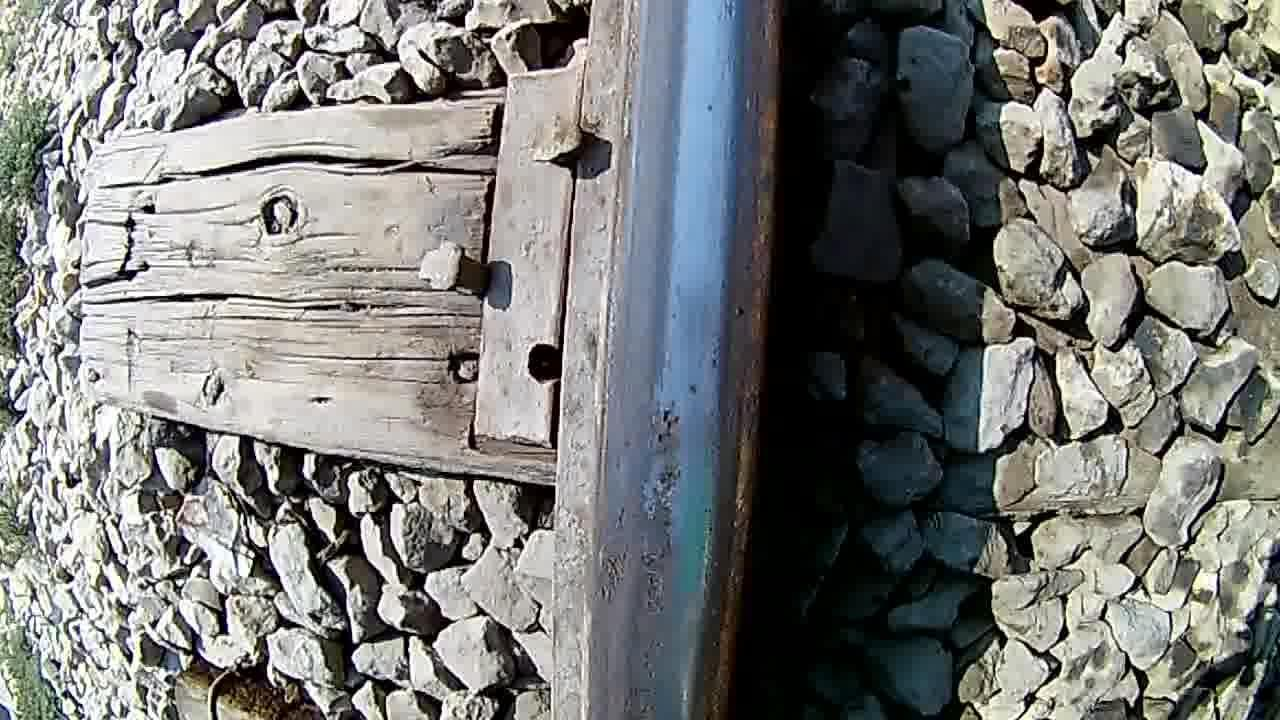crack: (606, 2, 779, 720)
